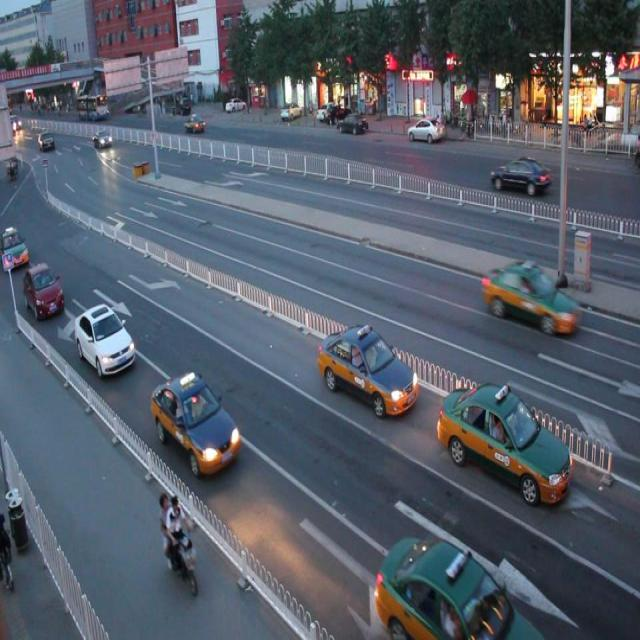car: (372, 532, 544, 640), (438, 380, 572, 502), (317, 322, 418, 415), (152, 372, 240, 474), (482, 260, 576, 335), (74, 302, 136, 376), (490, 155, 550, 196), (24, 261, 66, 317)
